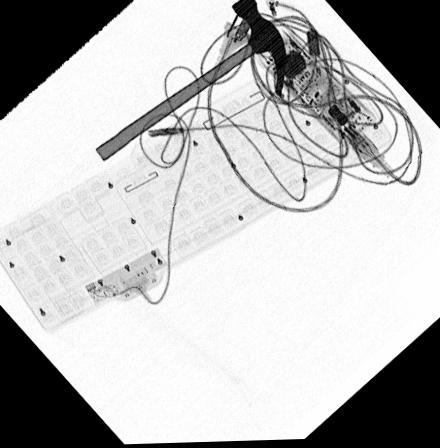Hammer: (92, 0, 287, 161)
